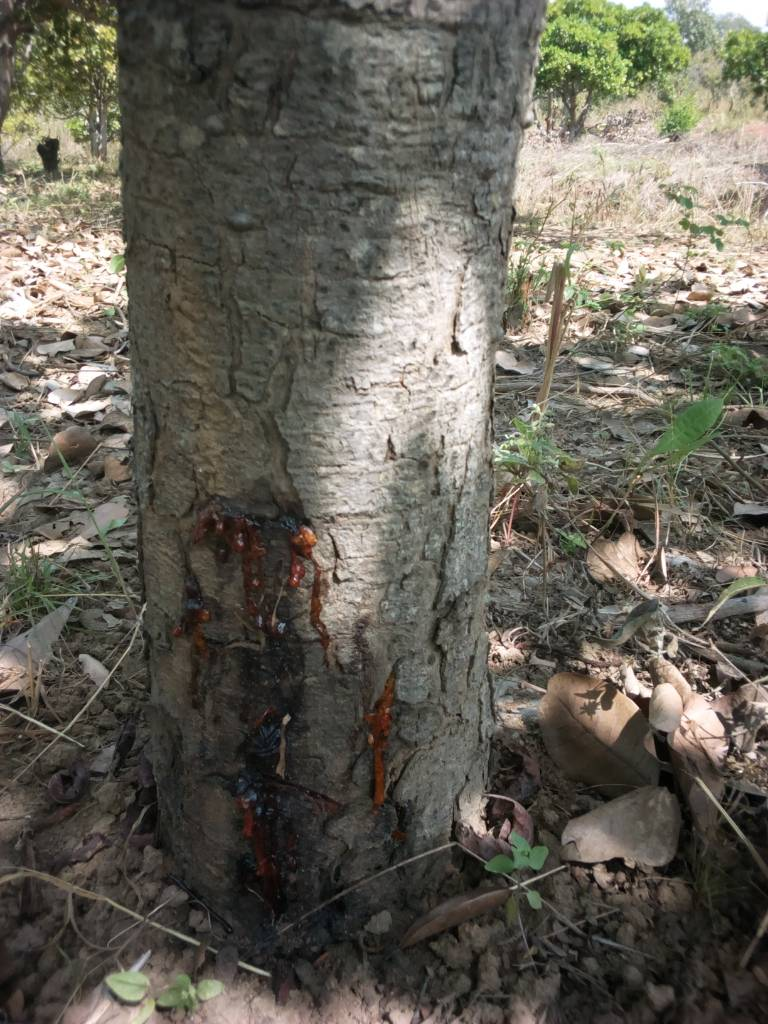Gommose: (180, 502, 407, 922)
